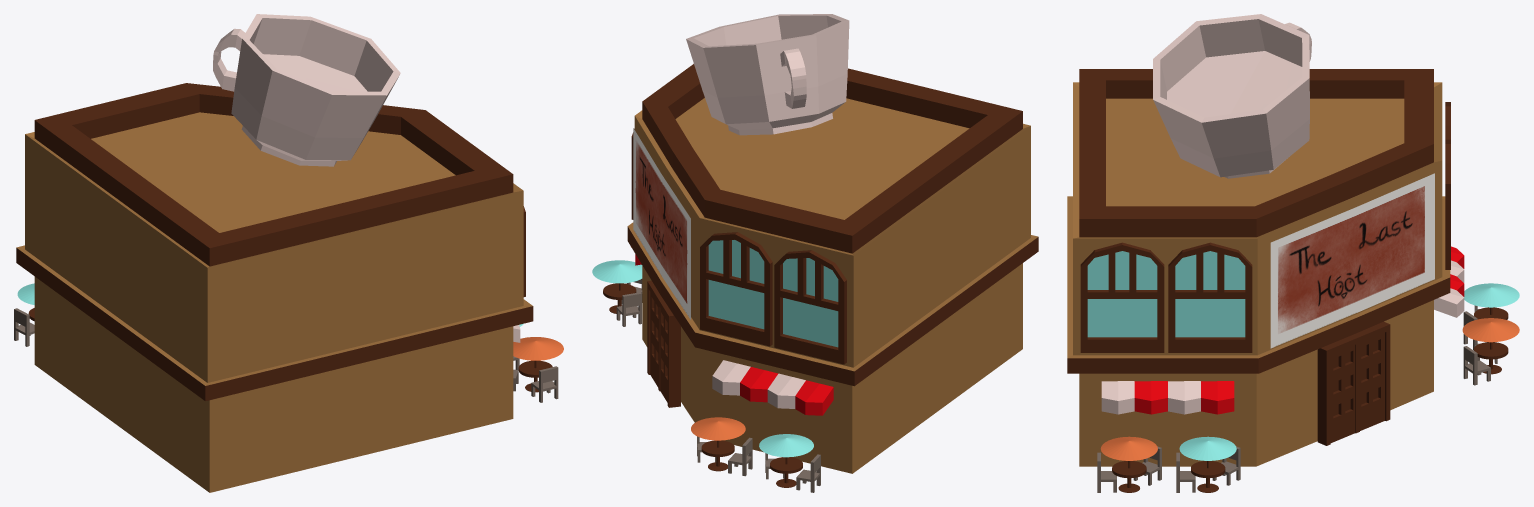
The model's file is cafe.fbx.
The picture shows the model from 3 angles, left to right: view 1: azimuth 30°, elevation 25°; view 2: azimuth 150°, elevation 25°; view 3: azimuth 270°, elevation 25°; orthographic projection. The views are drawn at different scales.
Visible parts, largest first — view 1: Cube.026; view 2: Cube.026; view 3: Cube.026.
Part boxes in pixels (box(x1,y1,x2,y2)): Cube.026: box(14, 14, 563, 492); Cube.026: box(592, 14, 1038, 492); Cube.026: box(1067, 14, 1519, 492).
Size of the model in its own units: 6635 by 5899 by 6664.
Materials: 8 (1 with a texture image).
